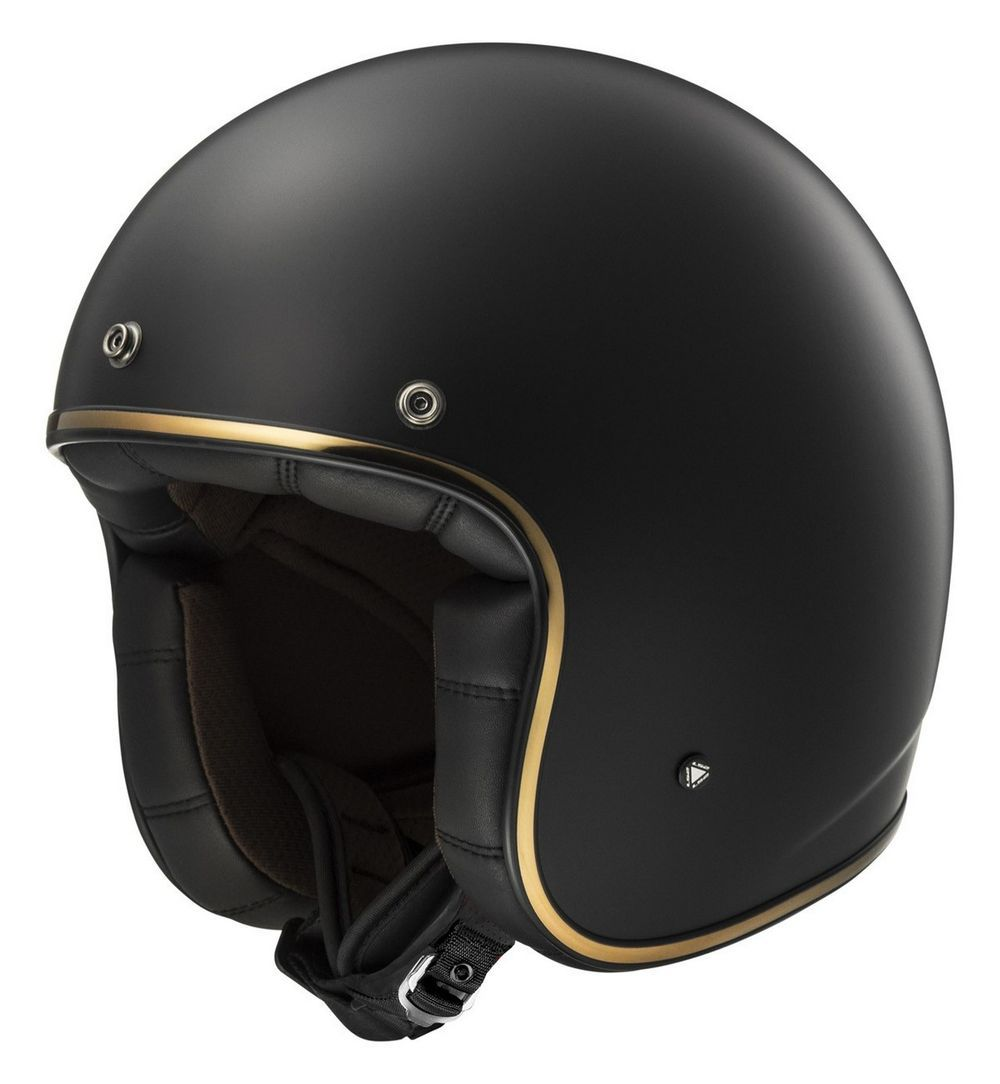helmet: (42, 44, 954, 972)
